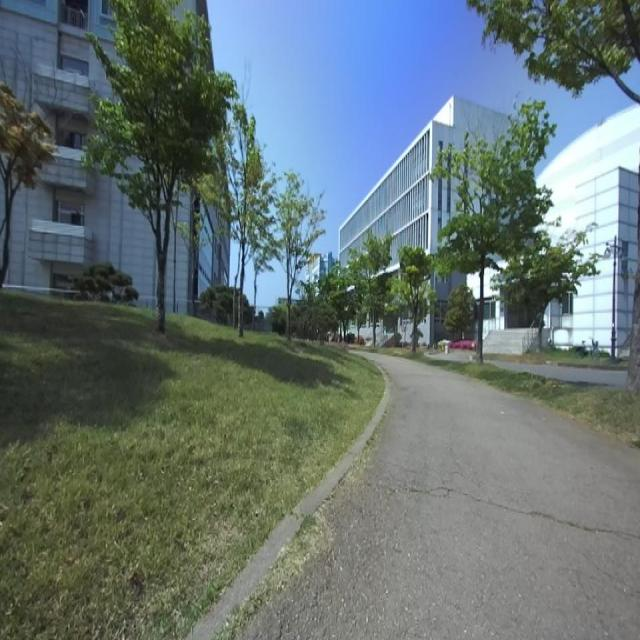sidewalk: (191, 354, 640, 639), (243, 350, 640, 639)
